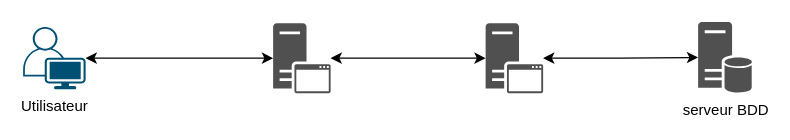
Image size: 790x140. Some labels were removed from this diagram. Each missing label, with the centre of its shape:
Serveur backend: pixel 513 57
Serveur Front: pixel 301 57
